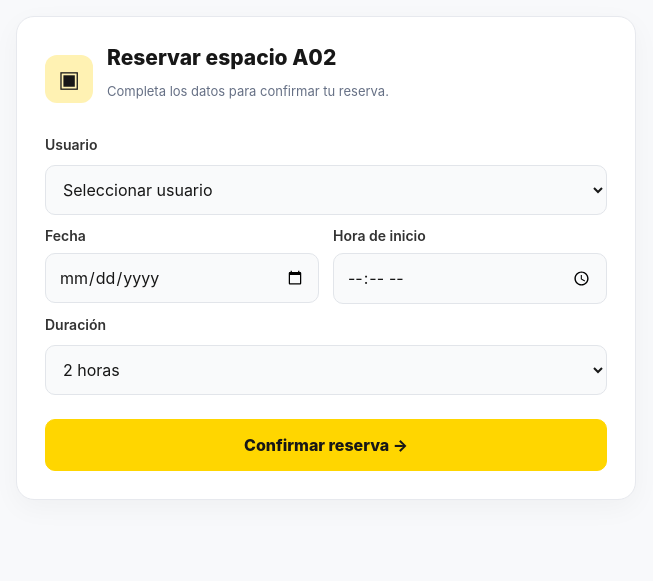
BookingForm › creates a booking with the selected user
Select "Usuario Prueba — prueba@example.com" in the dropdown labelled "Usuario": (326, 190) [45,165,607,215]
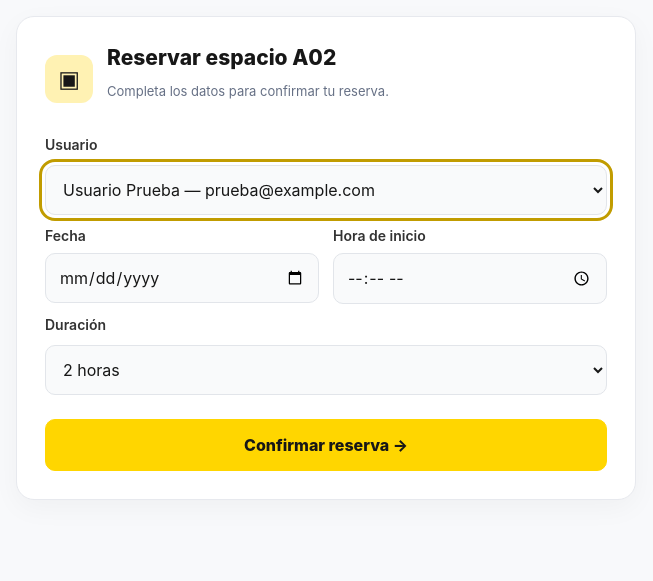
In the date field labelled "Fecha": (182, 278) [45,253,319,303], type "2030-10-20"
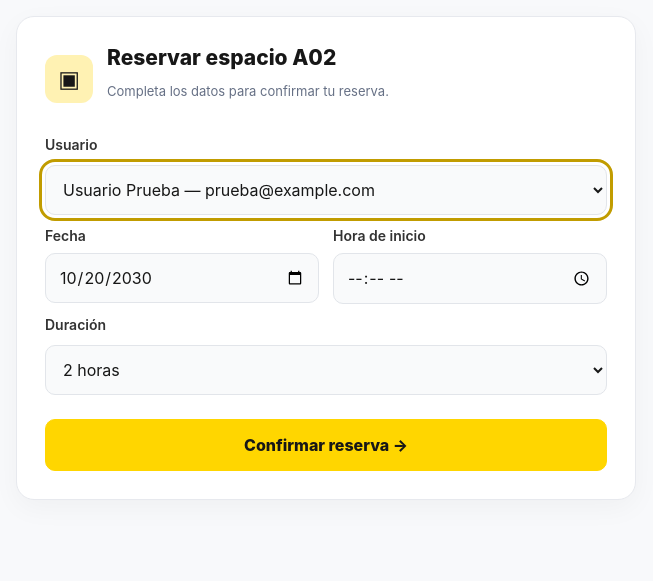
In the time field labelled "Hora de inicio": (470, 278) [333,253,607,304], type "10:00"
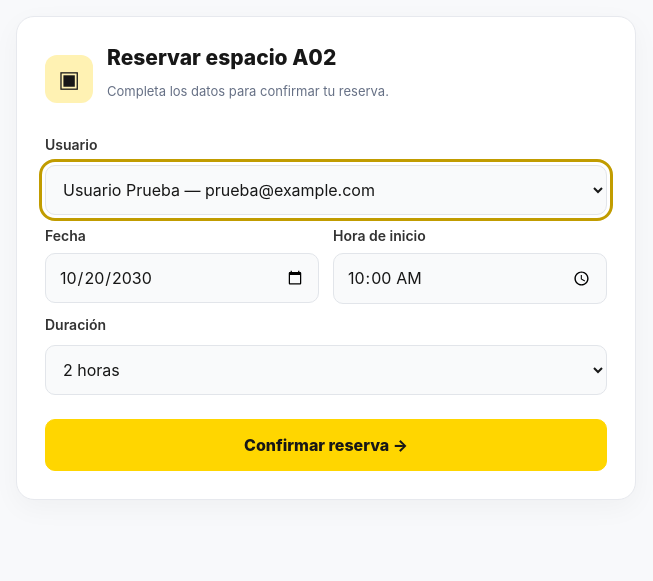
Click the button "Confirmar reserva →": (326, 445) [45,419,607,471]
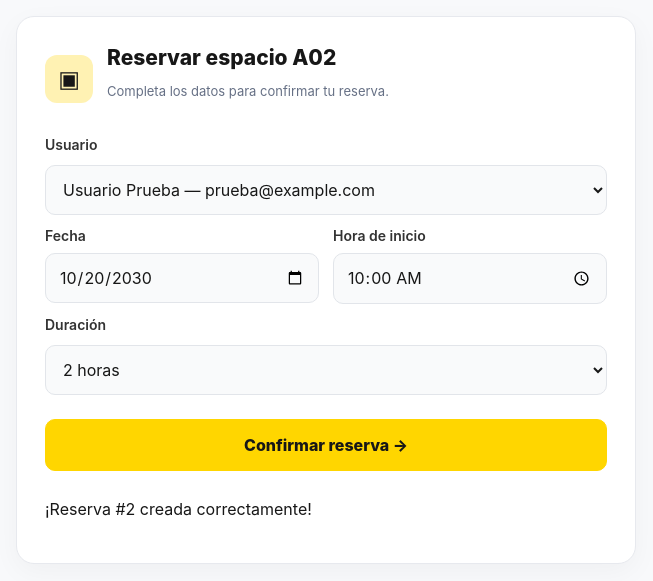
Check: the text "¡Reserva #2 creada correctamente!" is shown, box [45,499,312,519]
